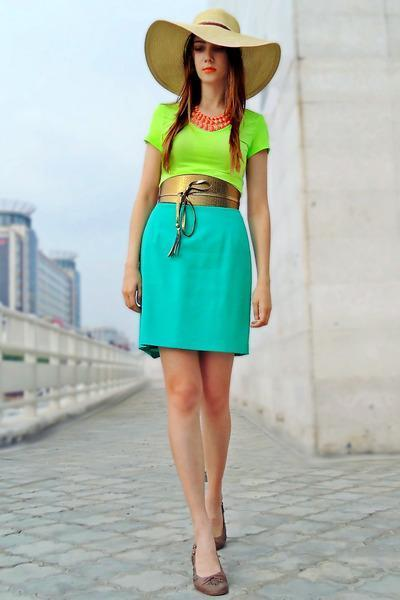hat: (144, 0, 280, 107)
shirt: (144, 102, 268, 192)
shoe: (192, 564, 229, 599)
skirt: (139, 204, 252, 358)
